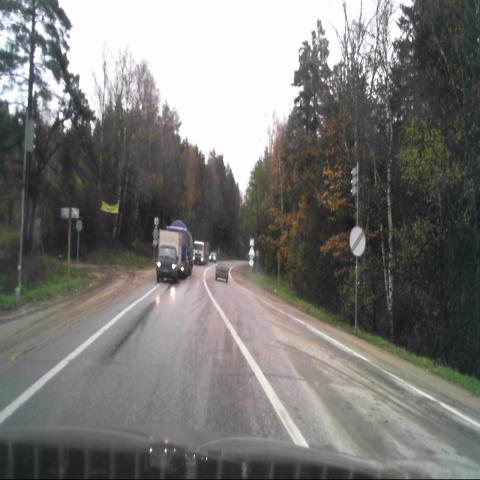3_31: (348, 226, 366, 257)
